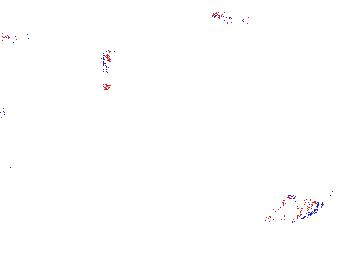X-ray fish: (271, 193, 321, 222), (59, 94, 91, 120)
glassfish: (292, 171, 346, 211)
red belly glassfish: (210, 10, 249, 28), (3, 29, 31, 45)
redtail glassfish: (98, 39, 117, 92)
